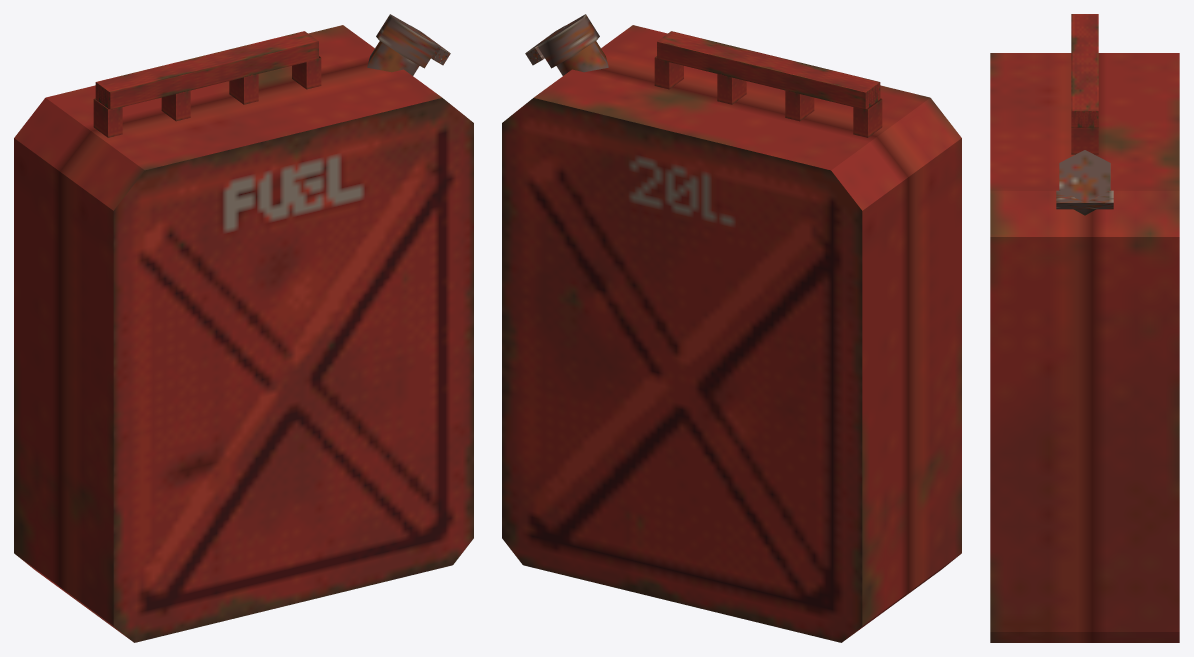
File: jerry_can.obj
3 renders of one model, left to right at view 1: azimuth 30°, elevation 25°; view 2: azimuth 150°, elevation 25°; view 3: azimuth 270°, elevation 25°, orthographic. The views are drawn at different scales.
Visible parts, largest first — view 1: jerry_can; view 2: jerry_can; view 3: jerry_can.
Part boxes in pixels (box(x1,y1,x2,y2)): jerry_can: box(14, 14, 473, 642); jerry_can: box(502, 14, 961, 642); jerry_can: box(990, 14, 1179, 642).
Size of the model in its own units: 0.3562 by 0.471 by 0.165.
Materials: 1 (1 with a texture image).
